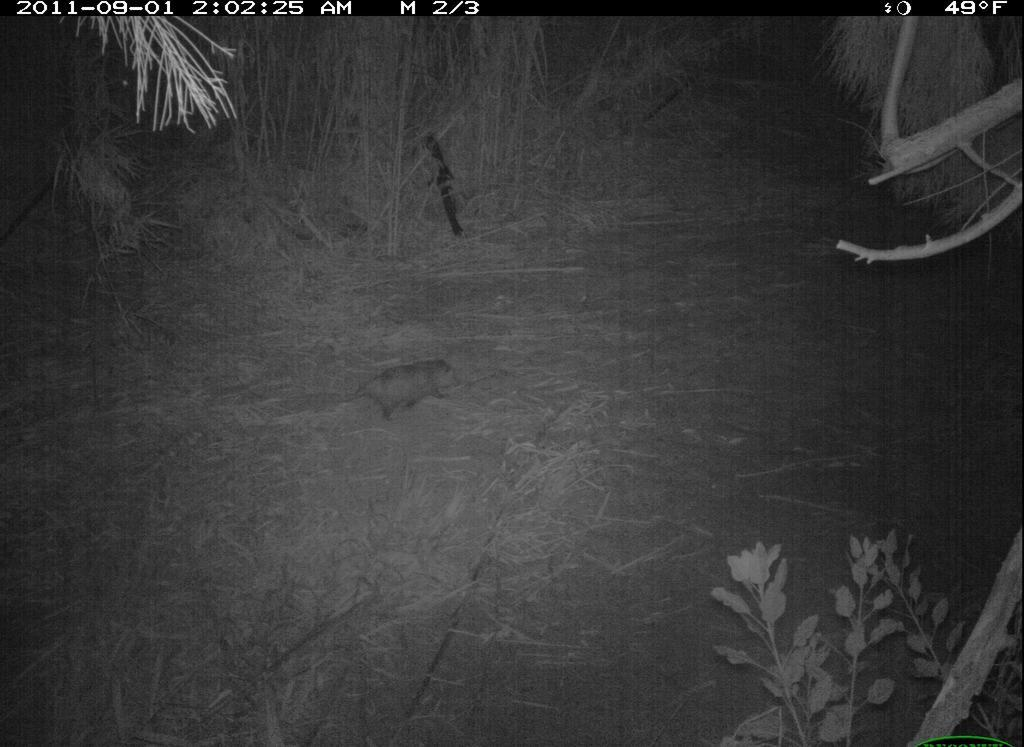opossum: (327, 350, 465, 422)
